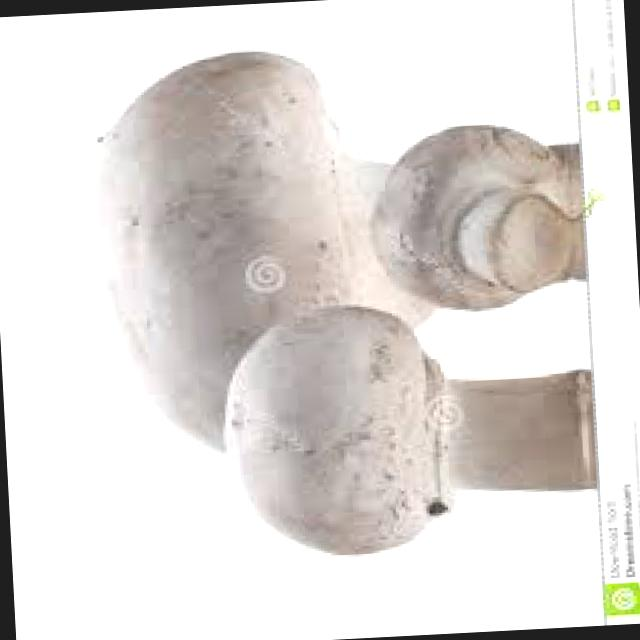Agaricus bisporus: (88, 53, 422, 456), (220, 293, 614, 564), (367, 119, 590, 314)
